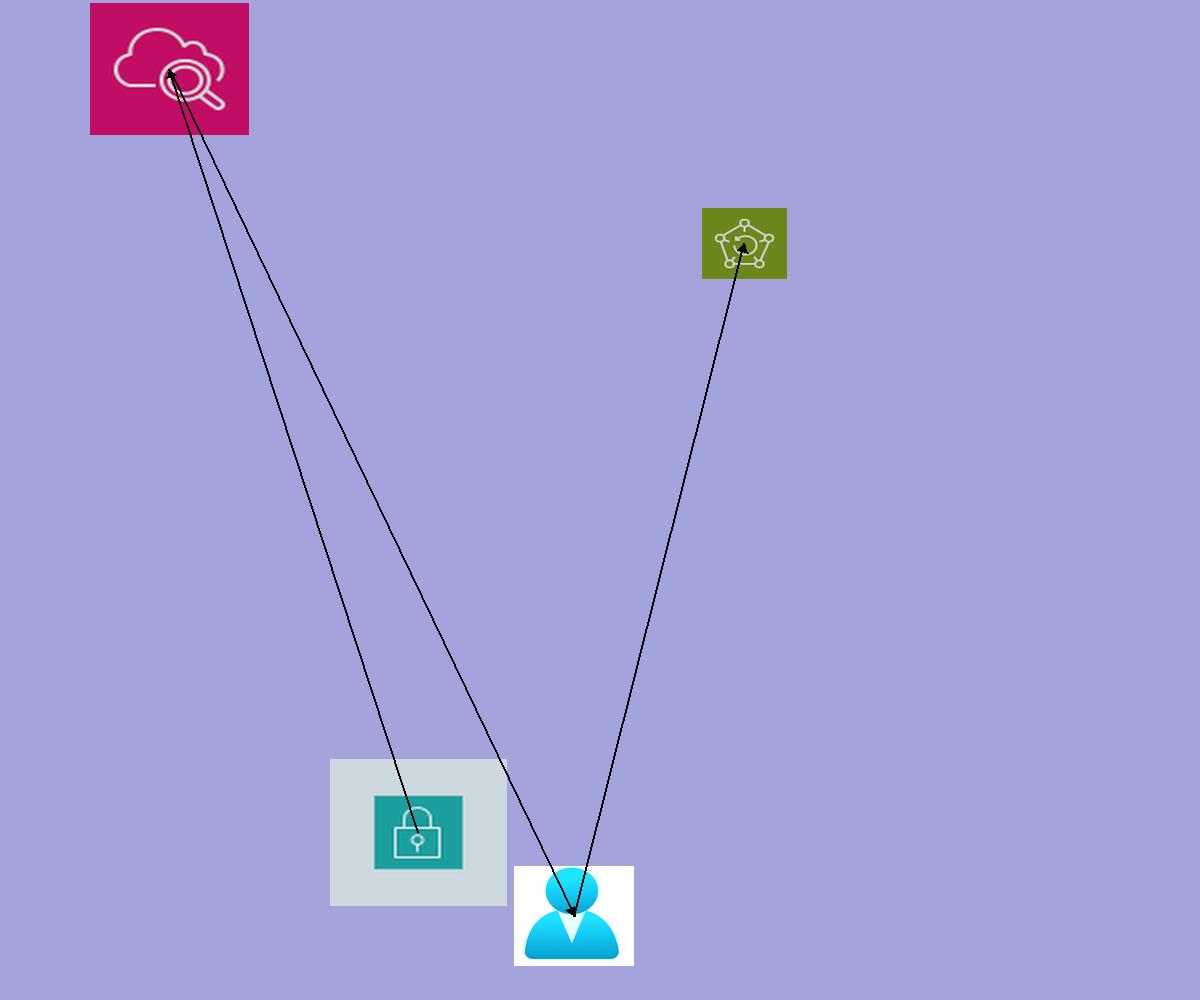AWS-Backup: (702, 208, 787, 279)
AWS-CloudWatch: (90, 3, 249, 135)
AWS-Private-subnet: (330, 759, 507, 906)
Azure_users: (514, 866, 634, 966)
